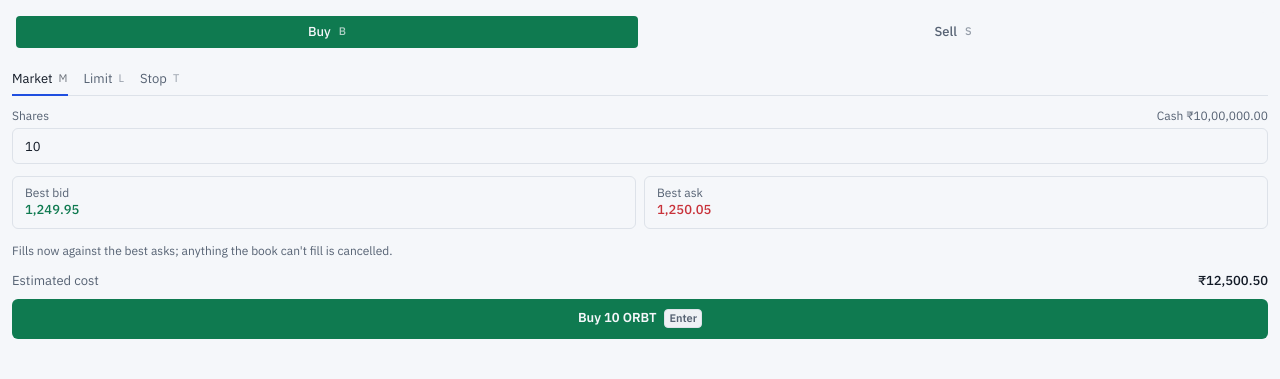
OrderTicket › when the outcome is unknown › after no response, says the order may have been placed, and resends it with the same id
Later steps or results of the test are not shown.
Click the button "Buy 10 ORBT Enter" at (640, 319), box [12, 299, 1268, 339]
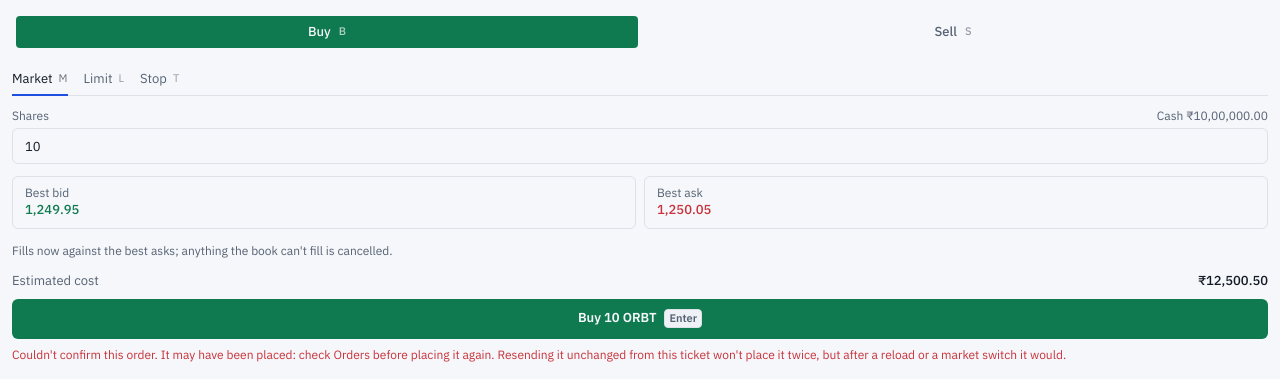
Expected: the text "Couldn't confirm this order. It may have been placed: check Orders" is shown, [12, 347, 1066, 362]
Click the button "Buy 10 ORBT Enter" at (640, 319), box [12, 299, 1268, 339]
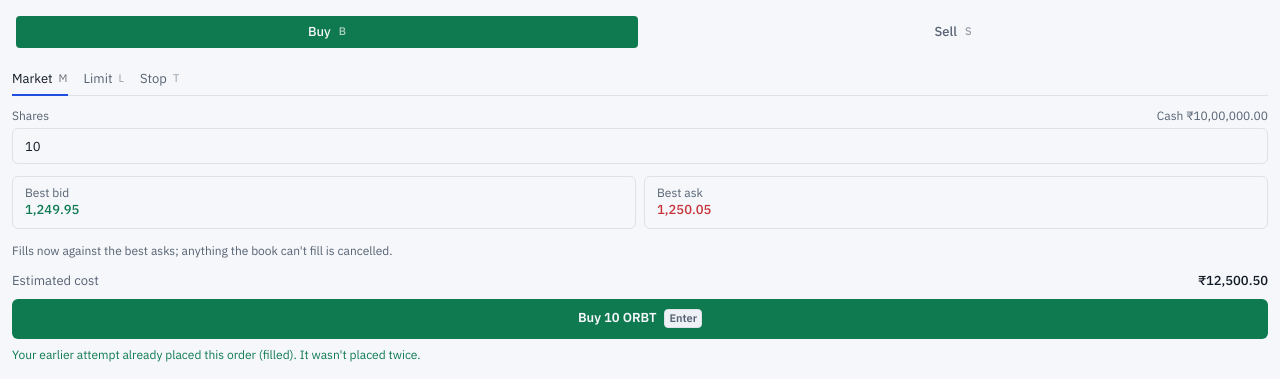
Expected: the text "Your earlier attempt already placed this order (filled). It wasn't placed twice." is shown, [12, 347, 420, 362]
